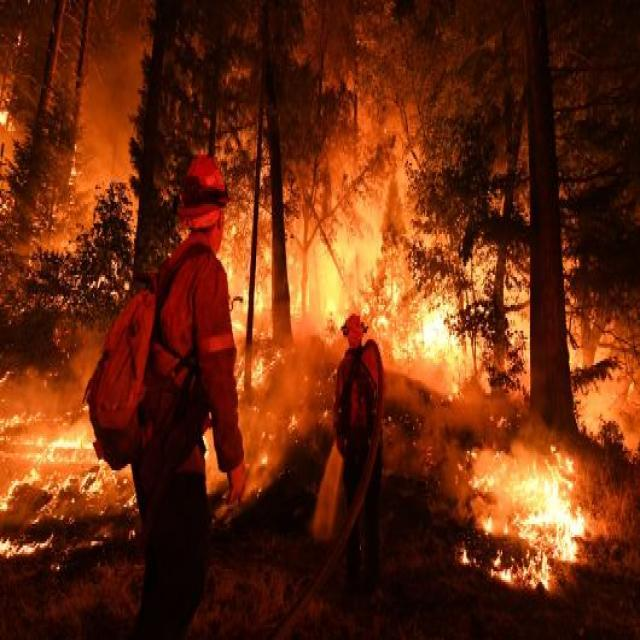Fire: (0, 310, 134, 574), (462, 208, 592, 441), (303, 227, 468, 393), (233, 215, 302, 499), (474, 437, 590, 591), (578, 384, 616, 441), (472, 240, 498, 306)
Smoke: (74, 95, 136, 209)
